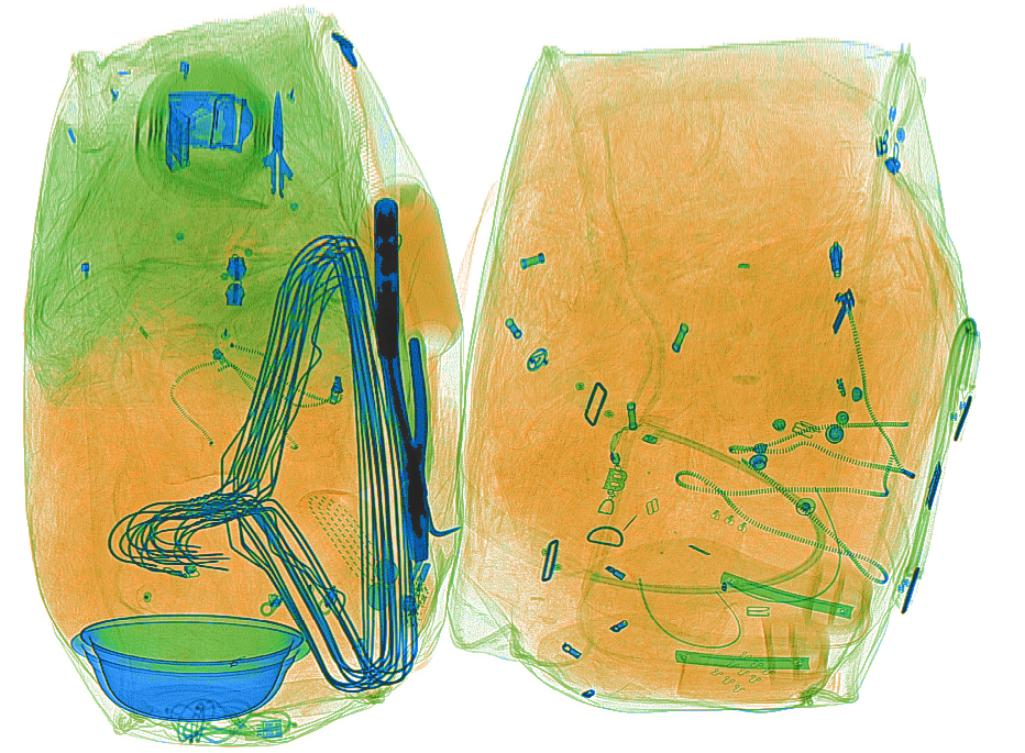scissors: (244, 88, 320, 219)
